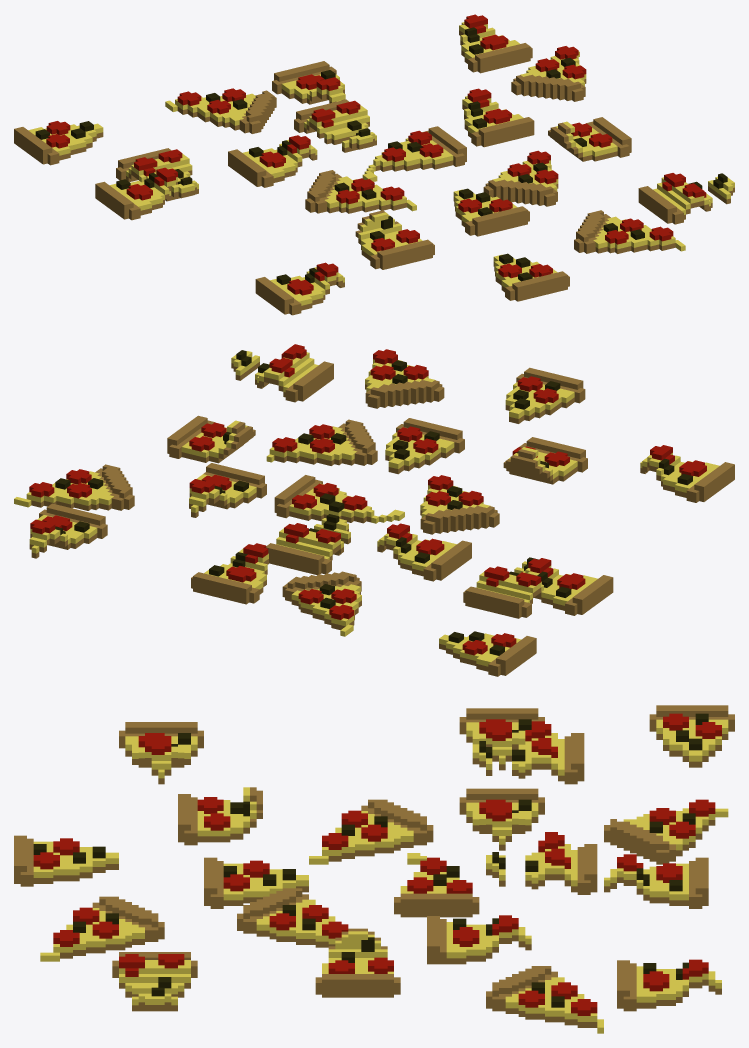
Rendered from pizza_inner.obj.
3 views of the same model, one above another, from view 1: azimuth 30°, elevation 25°; view 2: azimuth 150°, elevation 25°; view 3: azimuth 270°, elevation 25° (orthographic). The views are drawn at different scales.
Visible parts, largest first — view 1: pizza; view 2: pizza; view 3: pizza.
Part boxes in pixels (bbox=[...]): pizza: bbox=[14, 14, 734, 315]; pizza: bbox=[14, 344, 734, 676]; pizza: bbox=[14, 705, 734, 1033].
Size of the model in its own units: 112 by 6 by 110.
